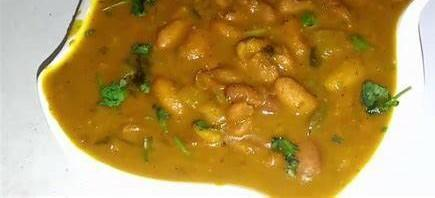RajmaCurry: (43, 0, 412, 198)
